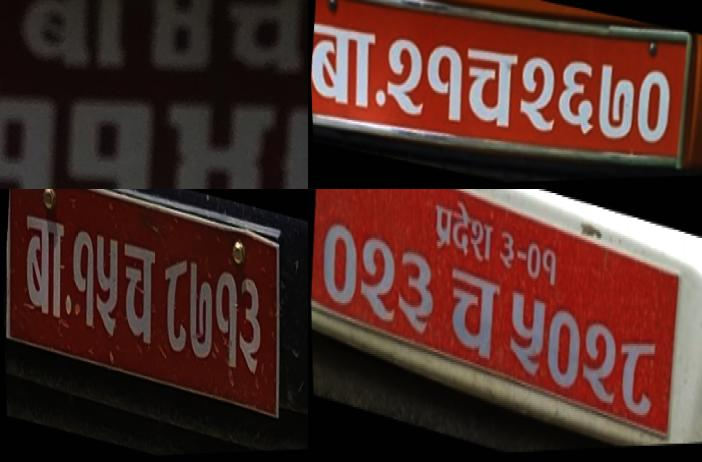0: (316, 209, 362, 315), (260, 92, 308, 189), (629, 62, 676, 153), (541, 303, 583, 402), (523, 235, 542, 285)
1: (41, 82, 168, 189), (419, 34, 470, 130), (64, 219, 102, 338), (207, 266, 244, 380), (536, 242, 560, 298)
2: (375, 29, 431, 123), (352, 223, 400, 329), (512, 50, 562, 143), (576, 313, 621, 416)
3: (391, 237, 438, 343), (232, 272, 268, 385), (497, 226, 516, 273)
4: (141, 83, 281, 189), (123, 0, 229, 87)
5: (88, 225, 127, 348), (502, 280, 548, 383)
6: (551, 54, 601, 142)
7: (0, 70, 73, 189), (589, 56, 640, 150), (181, 255, 219, 370)
8: (612, 328, 660, 432), (154, 247, 193, 363)
ba: (0, 0, 145, 80), (308, 11, 381, 118), (14, 204, 73, 330)
cha: (210, 0, 308, 86), (441, 255, 503, 371), (458, 41, 521, 138), (114, 235, 161, 357)
